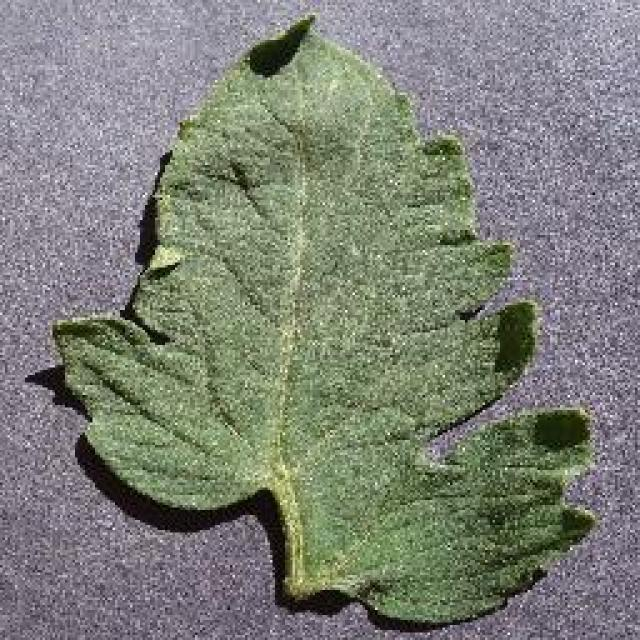Tomato healthy leaf: (55, 12, 593, 620)
